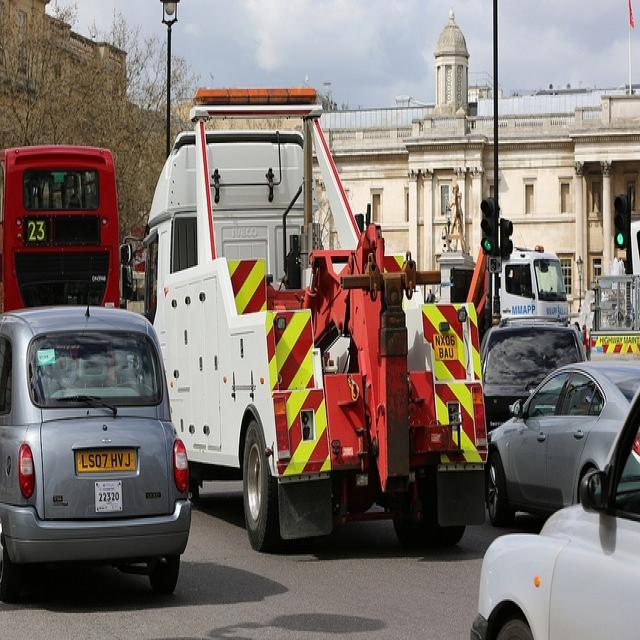bus: (0, 145, 120, 310)
car: (3, 294, 198, 584), (468, 381, 639, 638), (482, 357, 639, 525), (478, 314, 586, 424)
truck: (117, 84, 487, 551), (448, 241, 568, 322)
